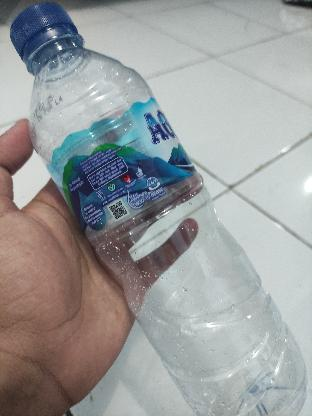Plastic Bottle: (8, 0, 312, 416)
